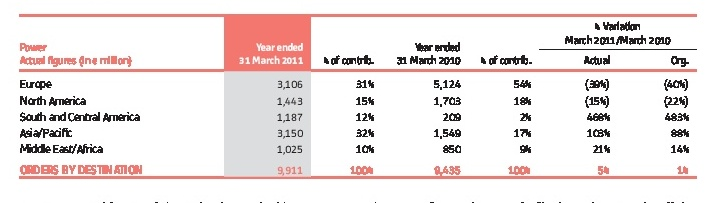table: (0, 0, 715, 203)
